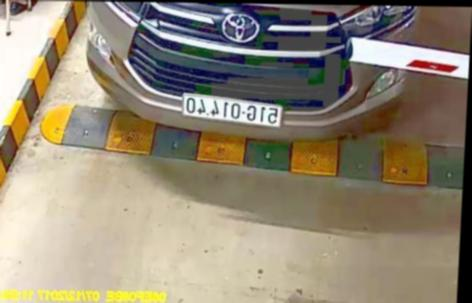License_Plate: (182, 93, 283, 129)
